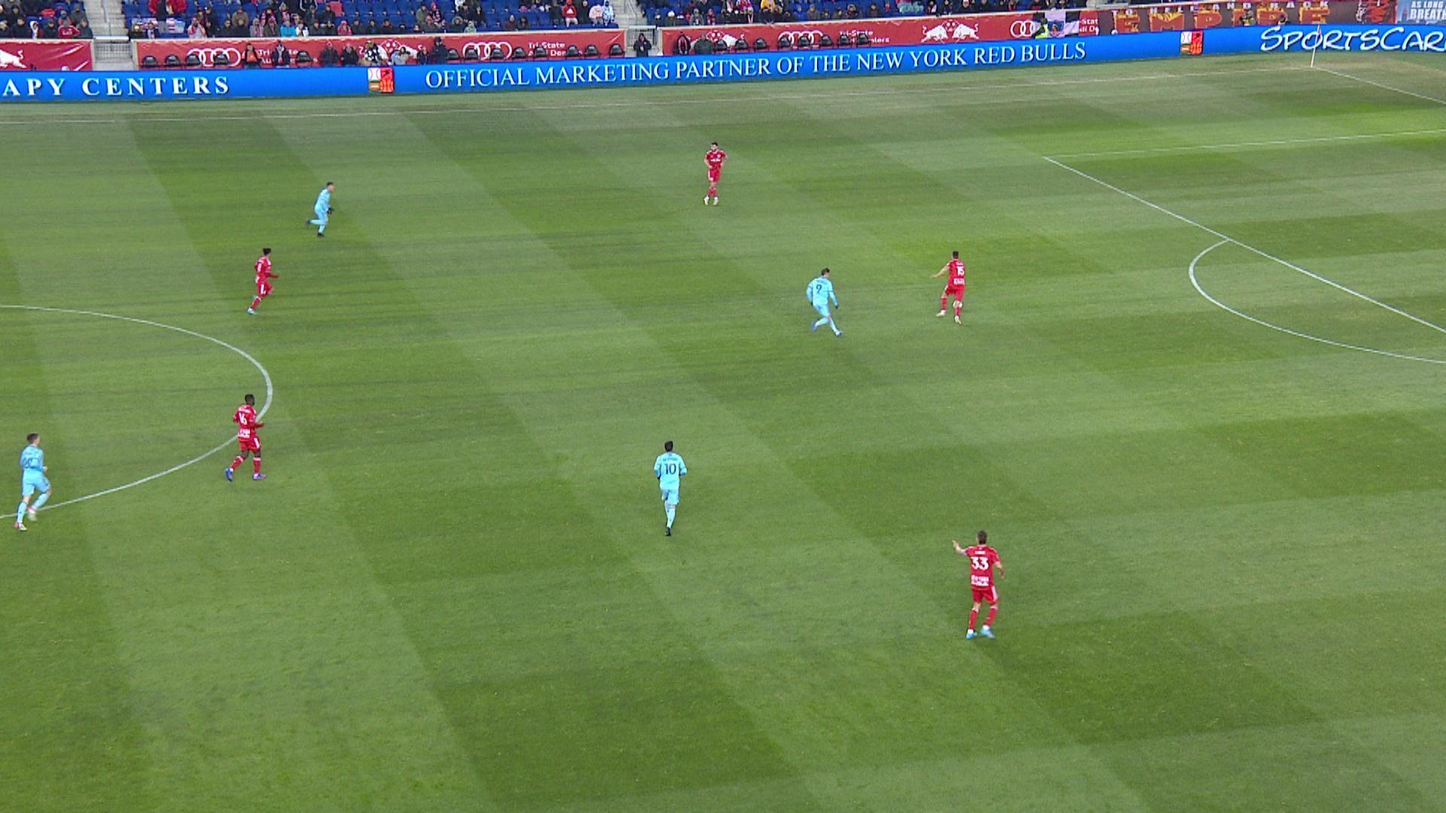Player: (952, 530, 1005, 640), (14, 433, 53, 531), (225, 394, 267, 482), (654, 441, 687, 536), (805, 268, 844, 337), (930, 251, 965, 325), (247, 248, 278, 315), (306, 182, 334, 237), (704, 142, 728, 205)
ball: (952, 299, 963, 308)
